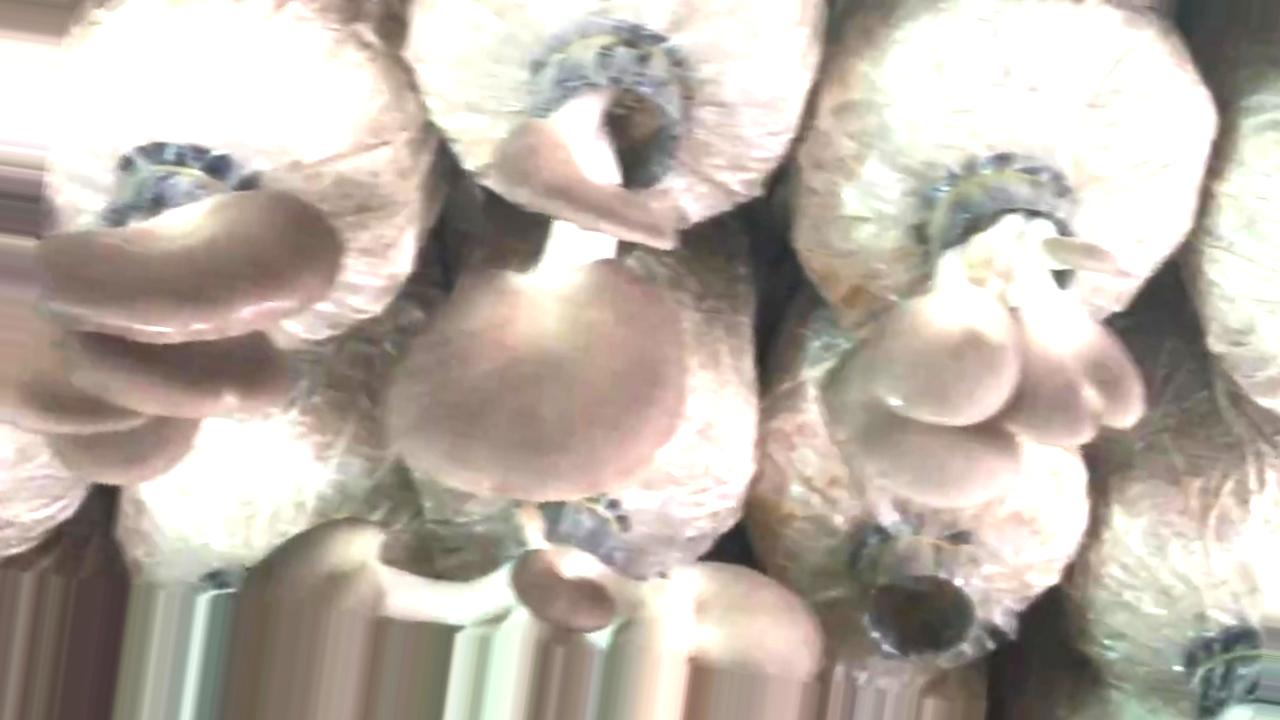nam: (385, 18, 705, 506), (226, 516, 830, 720), (823, 155, 1149, 514), (1, 153, 346, 481)
